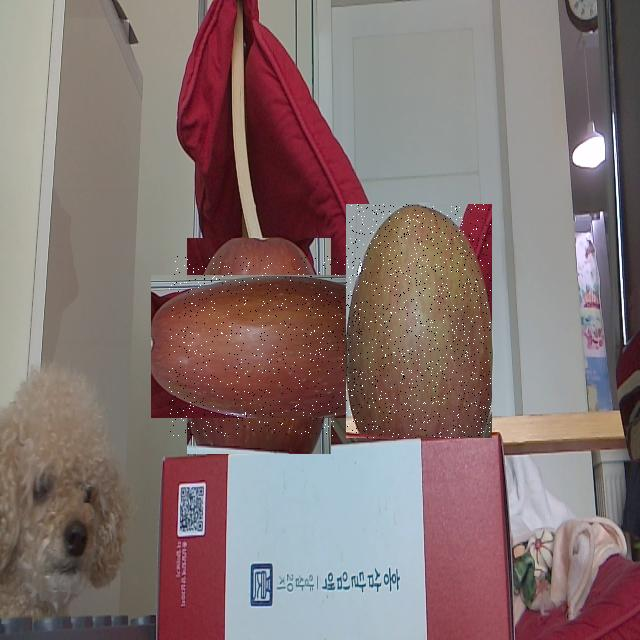apple: (346, 204, 492, 438), (169, 256, 349, 436)
